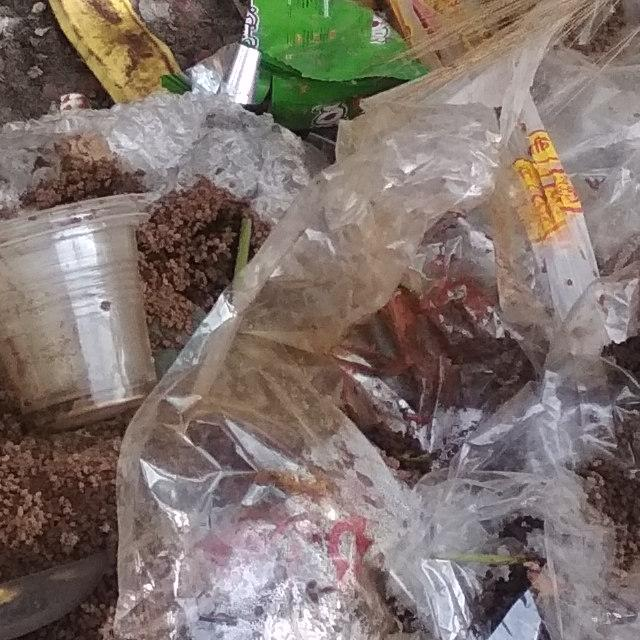food_waste: (0, 542, 110, 640)
plastic: (0, 158, 181, 432)
